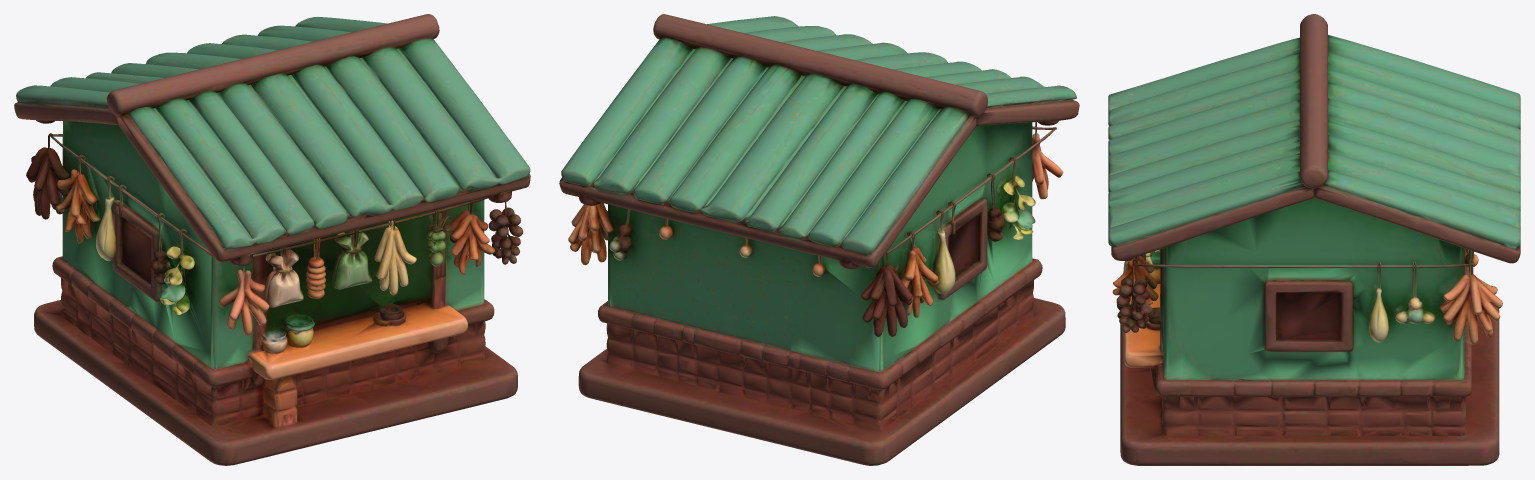
Rendered from MuthiShop.glb.
3 views of the same model, side by side, from view 1: azimuth 30°, elevation 25°; view 2: azimuth 150°, elevation 25°; view 3: azimuth 270°, elevation 25° (orthographic). The views are drawn at different scales.
Visible parts, largest first — view 1: node_0; view 2: node_0; view 3: node_0.
Part boxes in pixels (x1,y1,x2,y2): node_0: [14, 14, 530, 465]; node_0: [559, 14, 1079, 465]; node_0: [1108, 14, 1520, 465].
Bounding box in the file's own units: 0.7433 × 0.6678 × 0.8207.
1 material, 1 textured.
